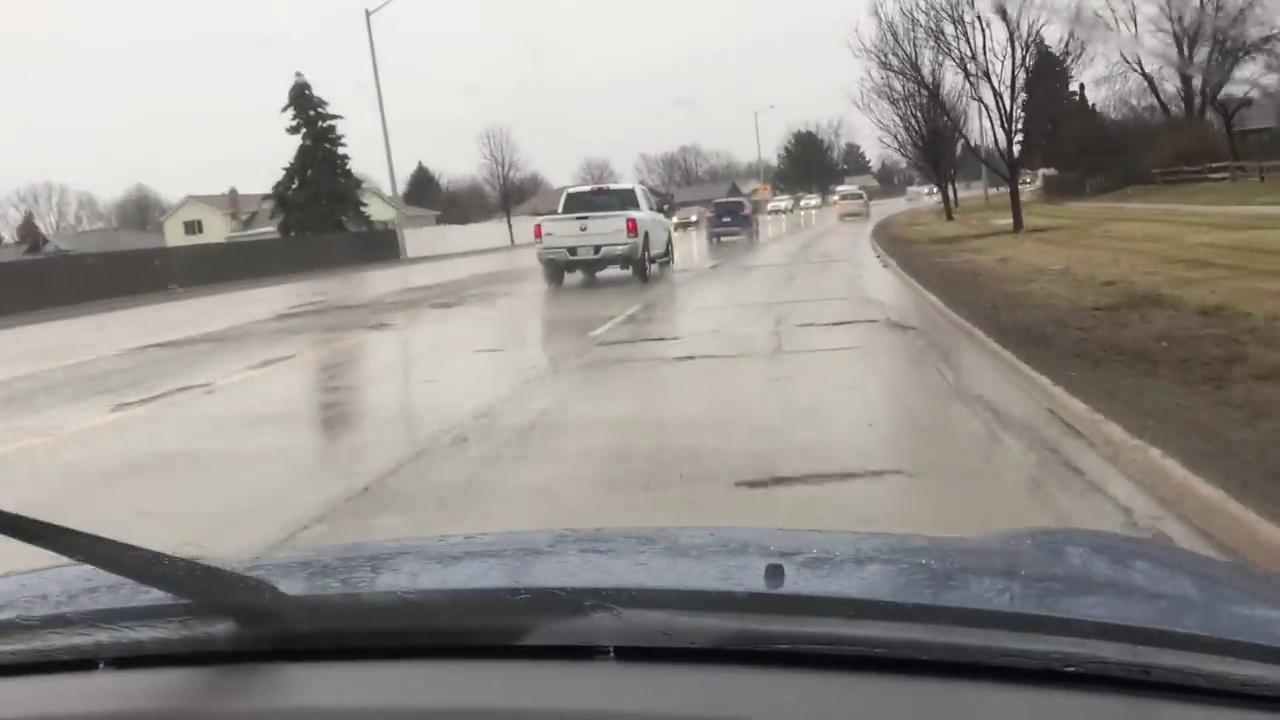pothole: (734, 469, 909, 489), (109, 382, 215, 413), (238, 355, 295, 376), (596, 336, 680, 346), (796, 320, 880, 327), (430, 300, 461, 308), (368, 320, 393, 329), (473, 347, 503, 352)
